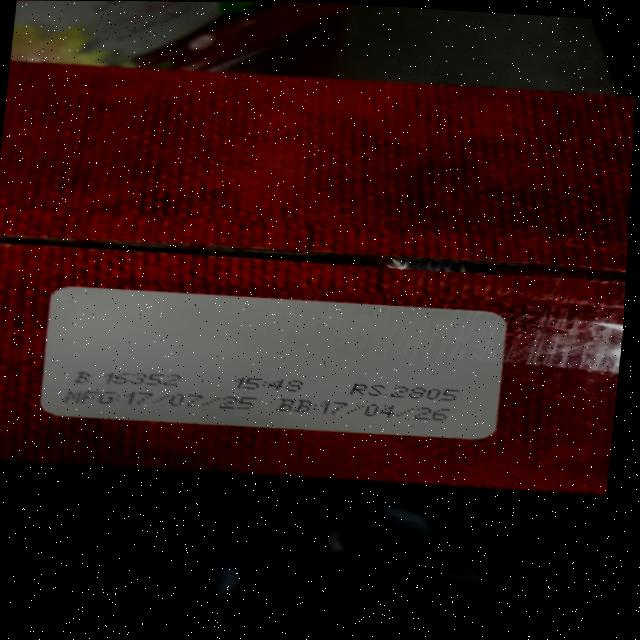BB: (277, 397, 457, 424)
Batch: (79, 368, 185, 388)
MFG: (63, 385, 260, 416)
RS: (346, 382, 465, 402)
TimeStamp: (233, 376, 307, 393)
